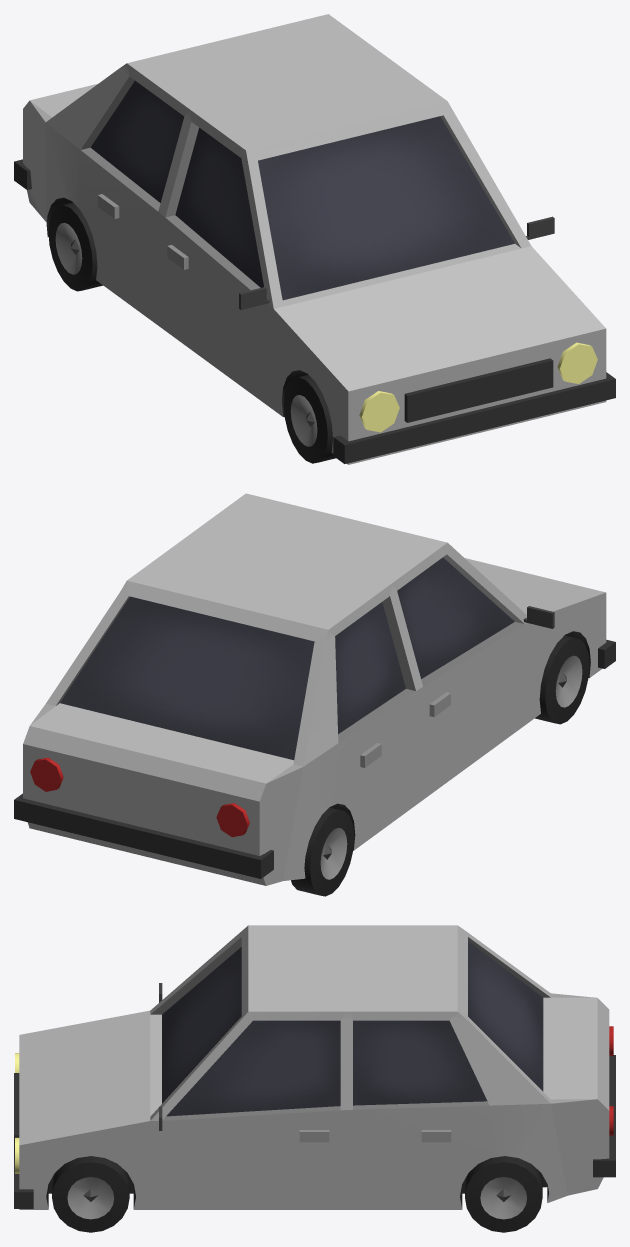
Rendered from Car_C4.fbx.
3 views of the same model, one above another, from view 1: azimuth 30°, elevation 25°; view 2: azimuth 150°, elevation 25°; view 3: azimuth 270°, elevation 25° (orthographic). The views are drawn at different scales.
Parts seen in each view (by area): view 1: Car3_Body, Car3_RF, Car3_RR; view 2: Car3_Body, Car3_RR, Car3_RF; view 3: Car3_Body, Car3_LF, Car3_LR.
Part boxes in pixels (bbox=[...]): Car3_Body: bbox=[14, 14, 615, 464]; Car3_RF: bbox=[283, 374, 335, 463]; Car3_RR: bbox=[48, 202, 102, 291]; Car3_Body: bbox=[14, 493, 615, 885]; Car3_RR: bbox=[291, 807, 354, 896]; Car3_RF: bbox=[535, 635, 589, 724]; Car3_Body: bbox=[14, 925, 615, 1209]; Car3_LF: bbox=[52, 1156, 129, 1232]; Car3_LR: bbox=[465, 1156, 542, 1232].
Size of the model in its own units: 191 by 138 by 362.
1 material, 1 textured.
